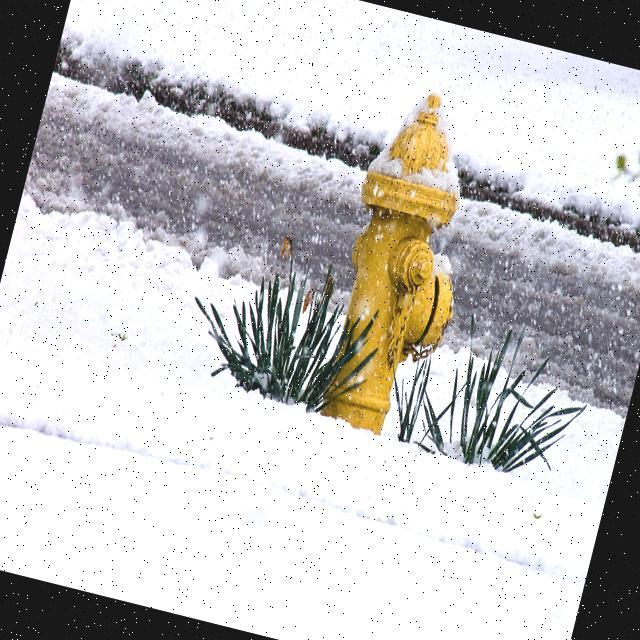fire_hydrant: (304, 81, 502, 440)
